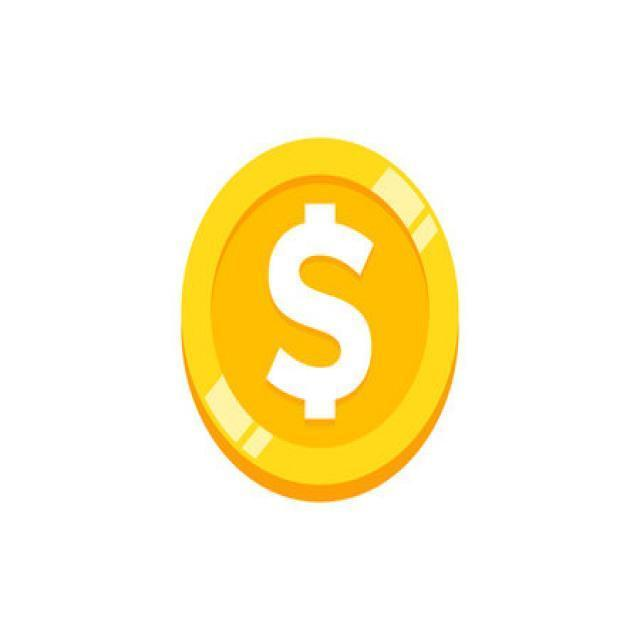Circle: (180, 138, 460, 500)
